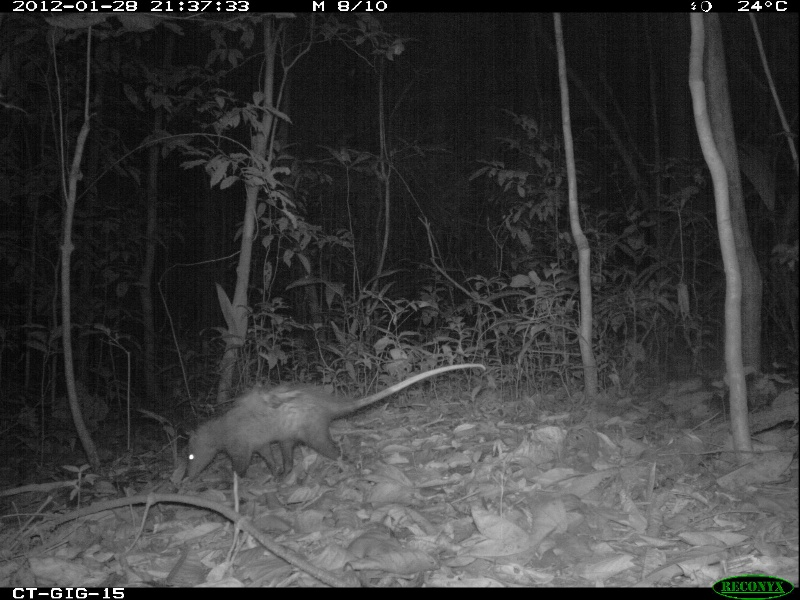opossum: (180, 348, 487, 497)
